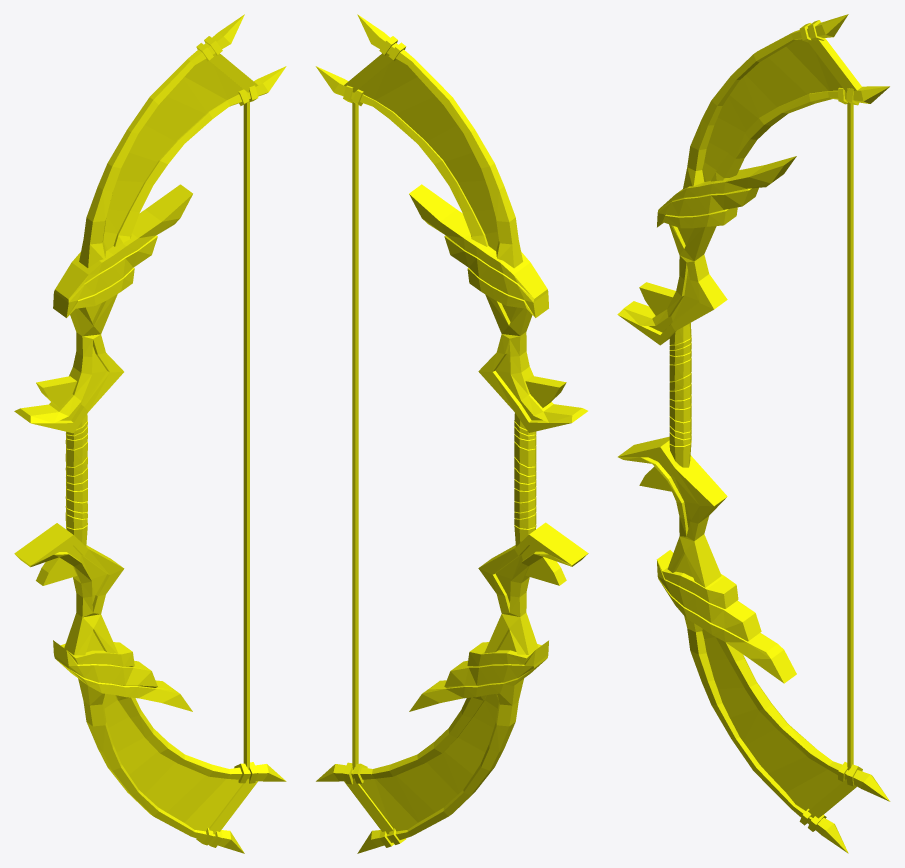
The model's file is _bow_11.glb.
3 renders of one model, left to right at view 1: azimuth 30°, elevation 25°; view 2: azimuth 150°, elevation 25°; view 3: azimuth 330°, elevation 25°, orthographic.
Visible parts, largest first — view 1: bow_11; view 2: bow_11; view 3: bow_11.
Part boxes in pixels (x1,y1,x2,y2): bow_11: [14, 14, 286, 853]; bow_11: [315, 14, 588, 853]; bow_11: [617, 14, 890, 853].
Bounding box in the file's own units: 0.4429 × 1.34 × 0.0545.
1 material, 1 textured.
